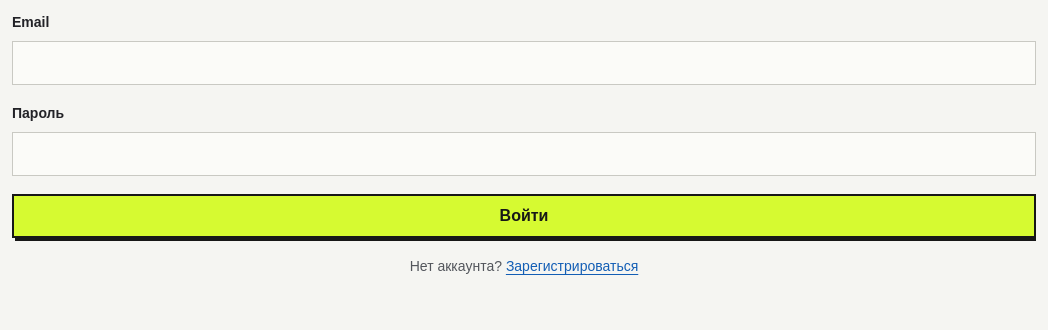
Test: LoginForm › keeps email, clears password and shows a neutral 401 message
Type "client@copyhouse.test" into the field labelled "Email" at (524, 63), box [12,41,1036,85]
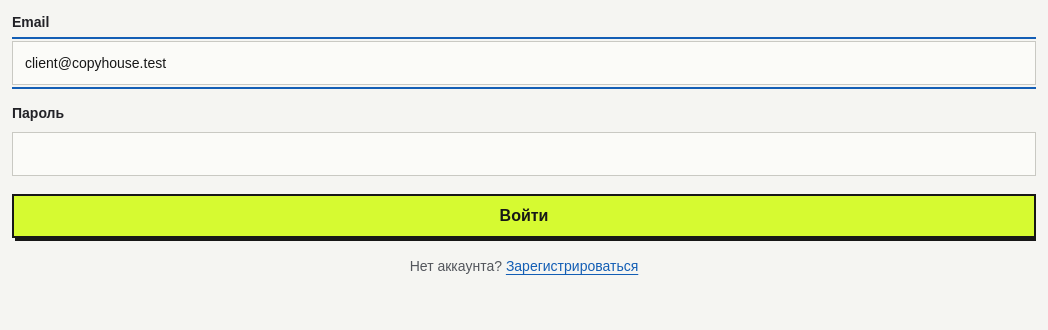
Type "wrong-password" into the password field labelled "Пароль" at (524, 154), box [12,132,1036,176]
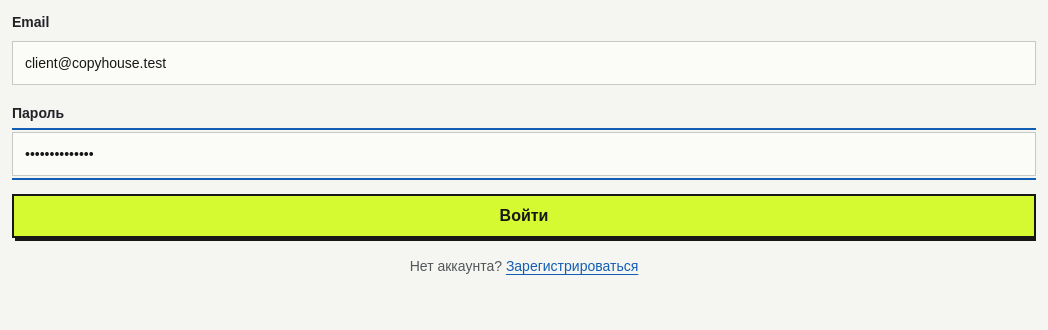
Click the button "Войти" at (524, 216), box [12,194,1036,238]
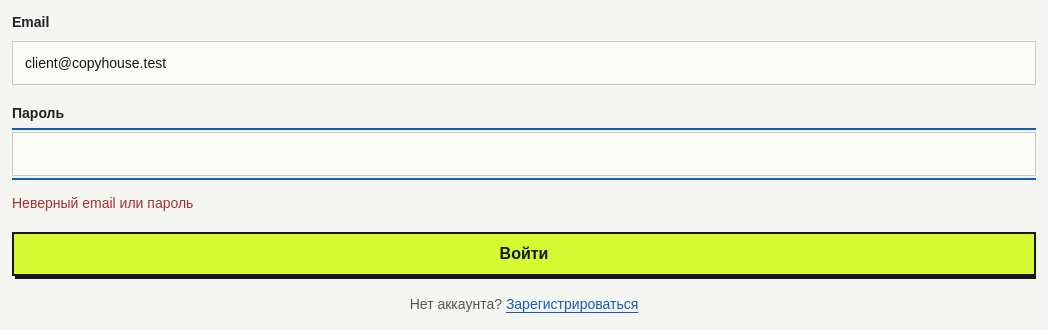
Expected: the message reads "Неверный email или пароль", [12,195,193,211]
Expected: the password field labelled "Пароль" is empty, [12,132,1036,176]
